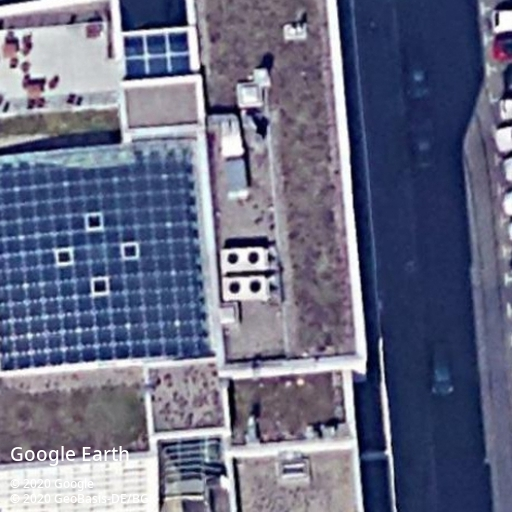Chiller: (219, 246, 269, 272), (222, 275, 270, 302)
